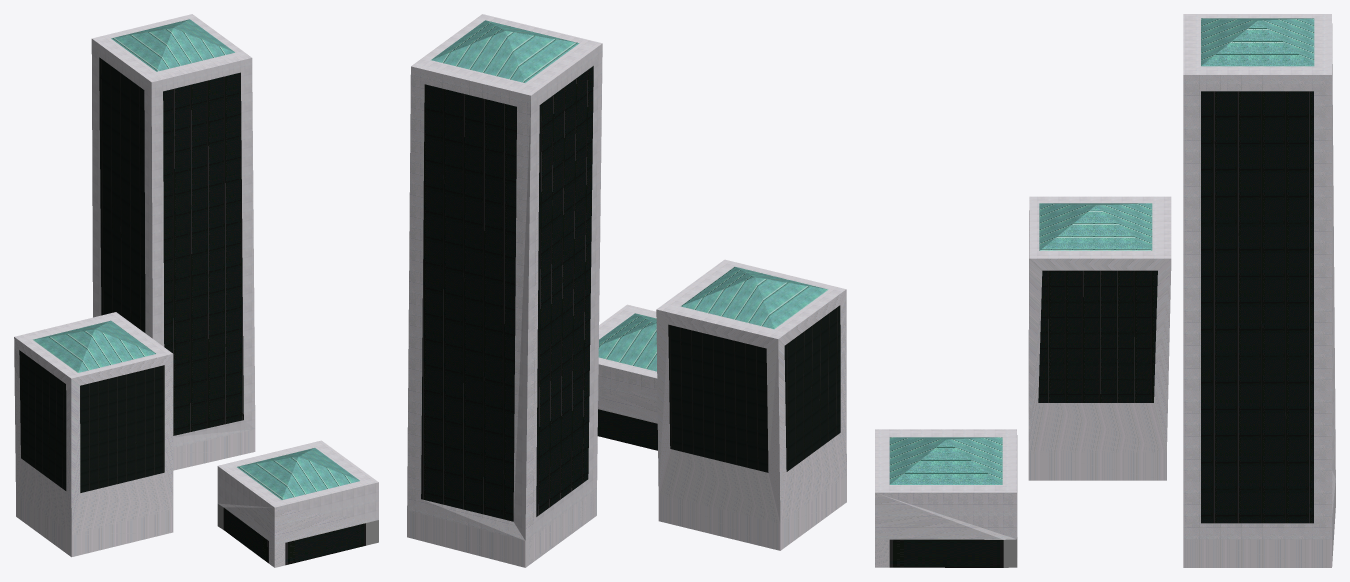
Rendered from lod_sfs002.obj.
3 views of the same model, side by side, from view 1: azimuth 30°, elevation 25°; view 2: azimuth 150°, elevation 25°; view 3: azimuth 270°, elevation 25° (orthographic). The views are drawn at different scales.
Visible parts, largest first — view 1: LOD_sfs002; view 2: LOD_sfs002; view 3: LOD_sfs002.
Part boxes in pixels (box(x1,y1,x2,y2)): LOD_sfs002: box(14, 14, 378, 567); LOD_sfs002: box(407, 14, 846, 567); LOD_sfs002: box(875, 14, 1335, 567).
Bounding box in the file's own units: 112 × 181 × 147.
4 materials, 3 textured.
